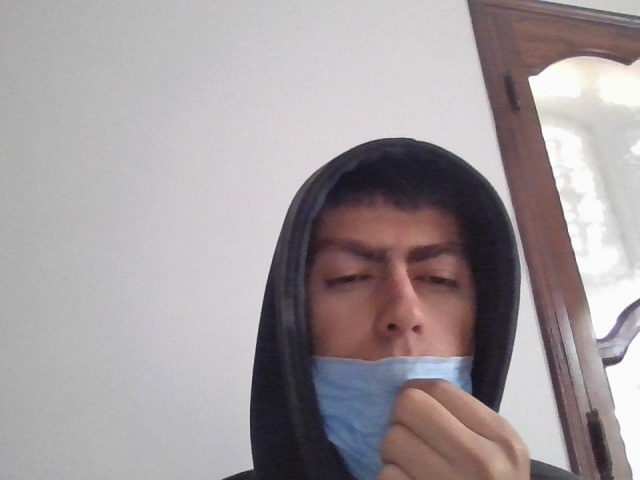mask_weared_incorrect: (256, 173, 482, 479)
